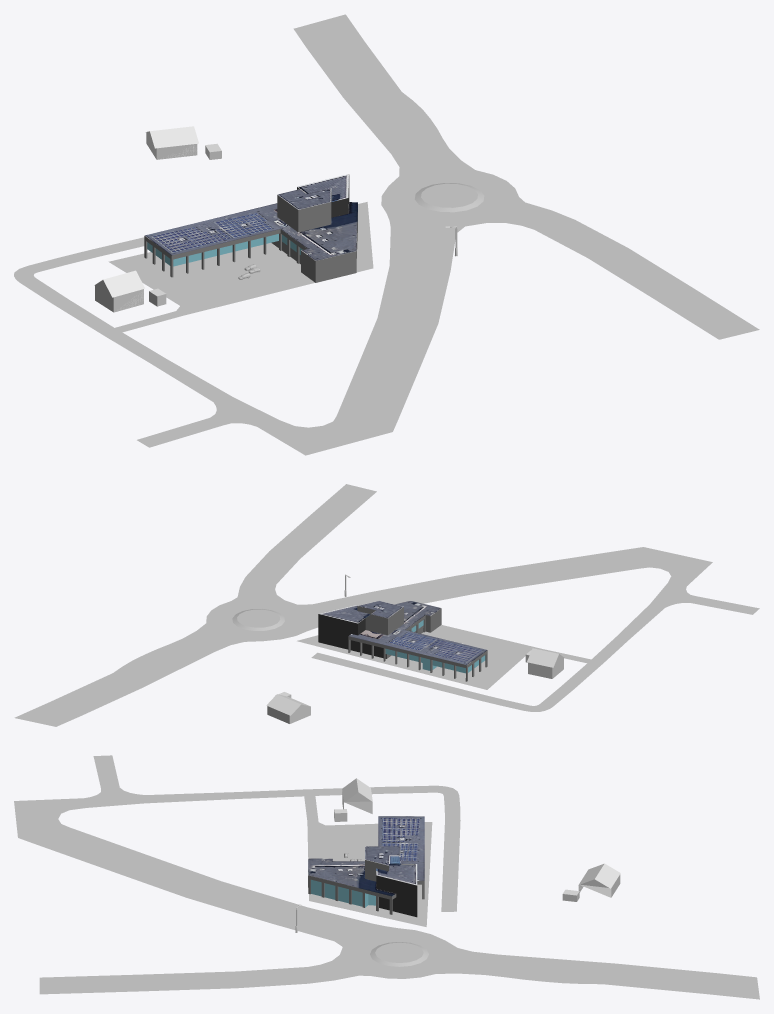
Rendered from mappi (2).fbx.
3 views of the same model, one above another, from view 1: azimuth 30°, elevation 25°; view 2: azimuth 150°, elevation 25°; view 3: azimuth 270°, elevation 25° (orthographic). The views are drawn at different scales.
Visible parts, largest first — view 1: Plane, Koulu, talo, talo1; view 2: Plane, Koulu, talo1, talo; view 3: Plane, Koulu, talo1, talo.
Part boxes in pixels (bbox=[...]): Plane: bbox=[14, 14, 759, 455]; Koulu: bbox=[144, 174, 357, 282]; talo: bbox=[94, 270, 166, 312]; talo1: bbox=[145, 126, 221, 159]; Plane: bbox=[14, 484, 759, 726]; Koulu: bbox=[318, 600, 487, 681]; talo1: bbox=[266, 692, 310, 723]; talo: bbox=[525, 648, 564, 678]; Plane: bbox=[14, 755, 759, 999]; Koulu: bbox=[308, 816, 424, 917]; talo1: bbox=[562, 863, 620, 901]; talo: bbox=[334, 778, 372, 821].
Bounding box in the file's own units: 1341 × 96.76 × 1732.
